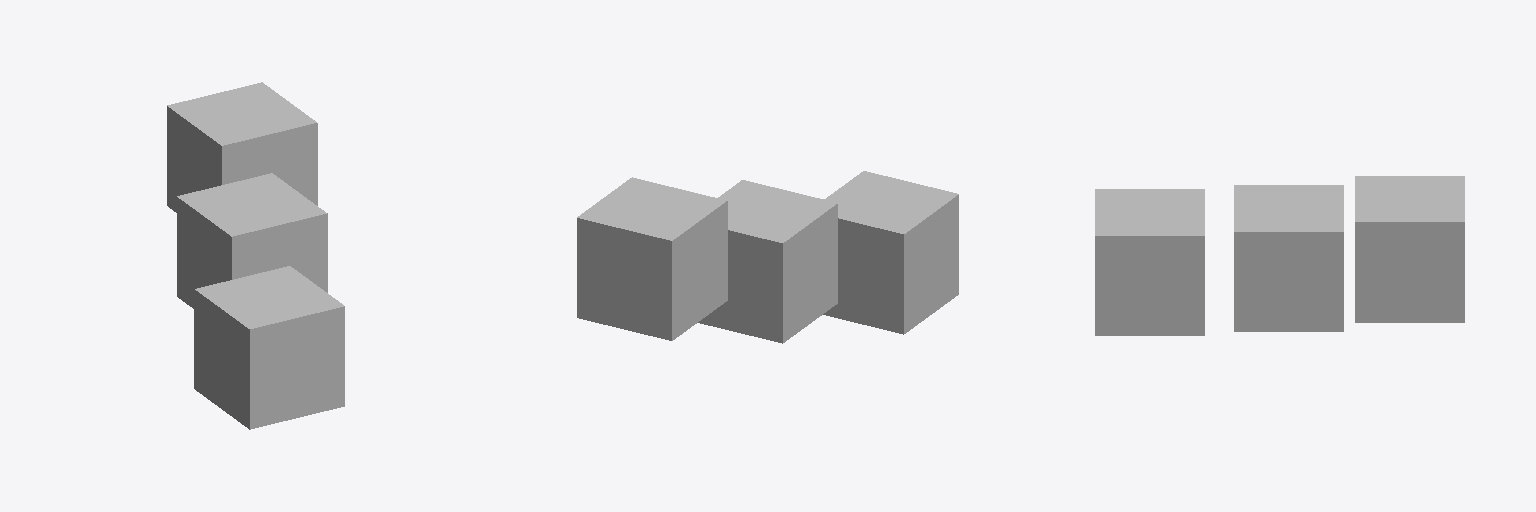
File: threecubes.obj
The picture shows the model from 3 angles: view 1: azimuth 30°, elevation 25°; view 2: azimuth 150°, elevation 25°; view 3: azimuth 270°, elevation 25°; orthographic projection.
Visible parts, largest first — view 1: Cube_Mesh, Cube.001_Mesh, Cube.002_Mesh; view 2: Cube.002_Mesh, Cube_Mesh, Cube.001_Mesh; view 3: Cube_Mesh, Cube.001_Mesh, Cube.002_Mesh.
Boxes of the visible parts, <box> form: Cube_Mesh: <box>194,266,344,429</box>; Cube.001_Mesh: <box>177,173,327,308</box>; Cube.002_Mesh: <box>167,82,317,212</box>; Cube.002_Mesh: <box>577,177,727,340</box>; Cube_Mesh: <box>823,171,958,334</box>; Cube.001_Mesh: <box>698,180,837,343</box>; Cube_Mesh: <box>1095,189,1204,335</box>; Cube.001_Mesh: <box>1234,185,1343,331</box>; Cube.002_Mesh: <box>1355,176,1464,322</box>.
Size of the model in its own units: 4.13 by 3.27 by 6.7.